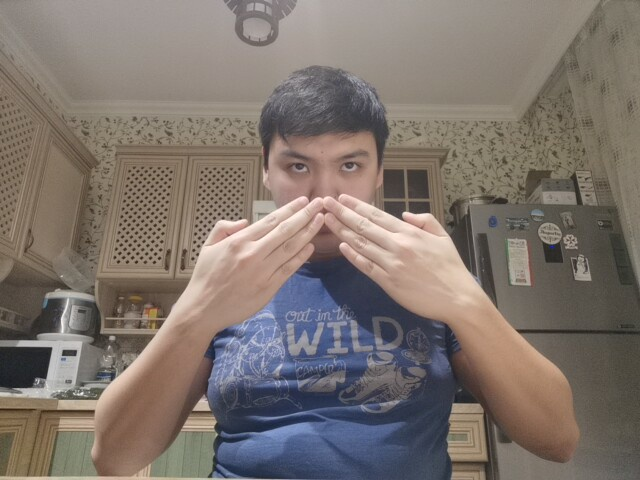Thanks: (165, 184, 514, 342)
